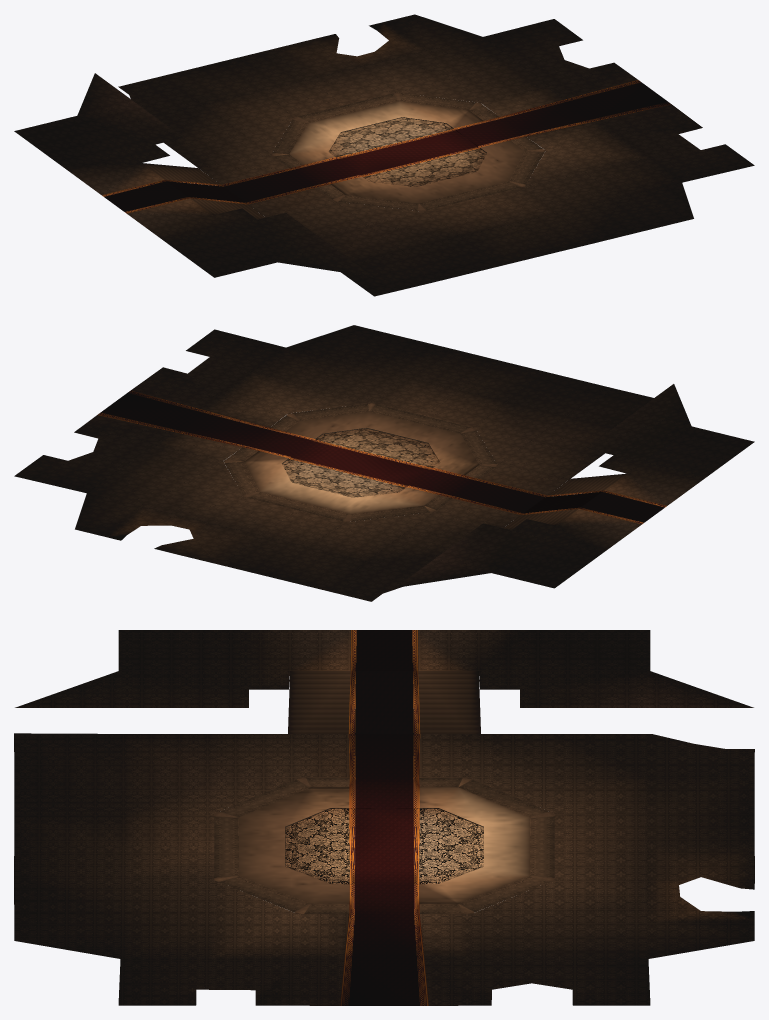
Rendered from test-floor-solid.glb.
3 views of the same model, one above another, from view 1: azimuth 30°, elevation 25°; view 2: azimuth 150°, elevation 25°; view 3: azimuth 270°, elevation 25° (orthographic). The views are drawn at different scales.
Parts seen in each view (by area): view 1: floor; view 2: floor; view 3: floor.
Boxes of the visible parts, x1,y1,x2,y2 form: floor: (14,14,754,296); floor: (14,325,754,601); floor: (14,630,754,1005).
Size of what is drawn, in the model's own units: 330 by 11.86 by 295.
9 materials, 8 textured.
